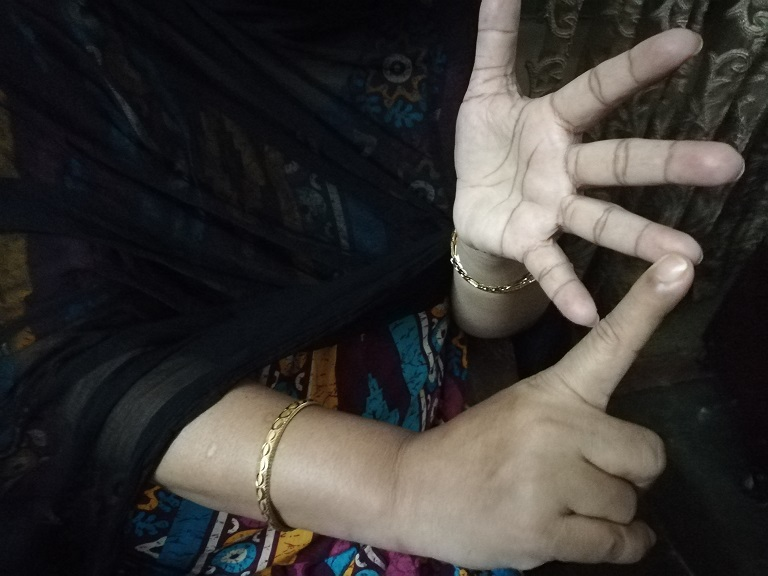e: (435, 1, 745, 576)
